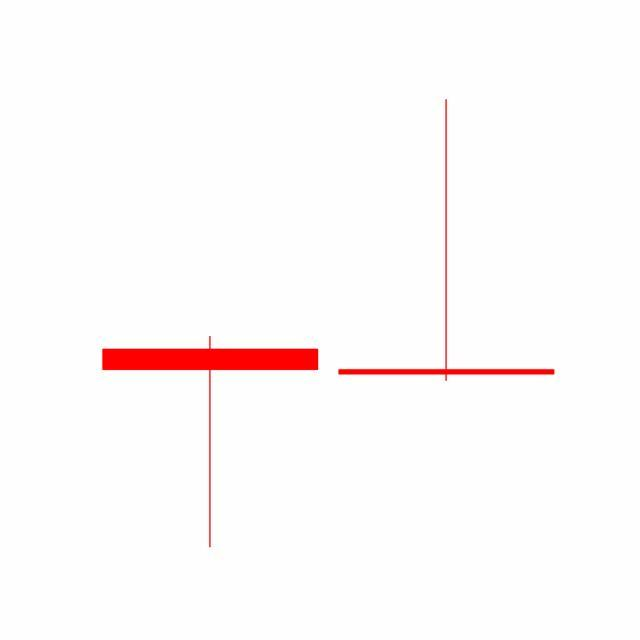Gravestone Doji: (328, 96, 566, 385)
